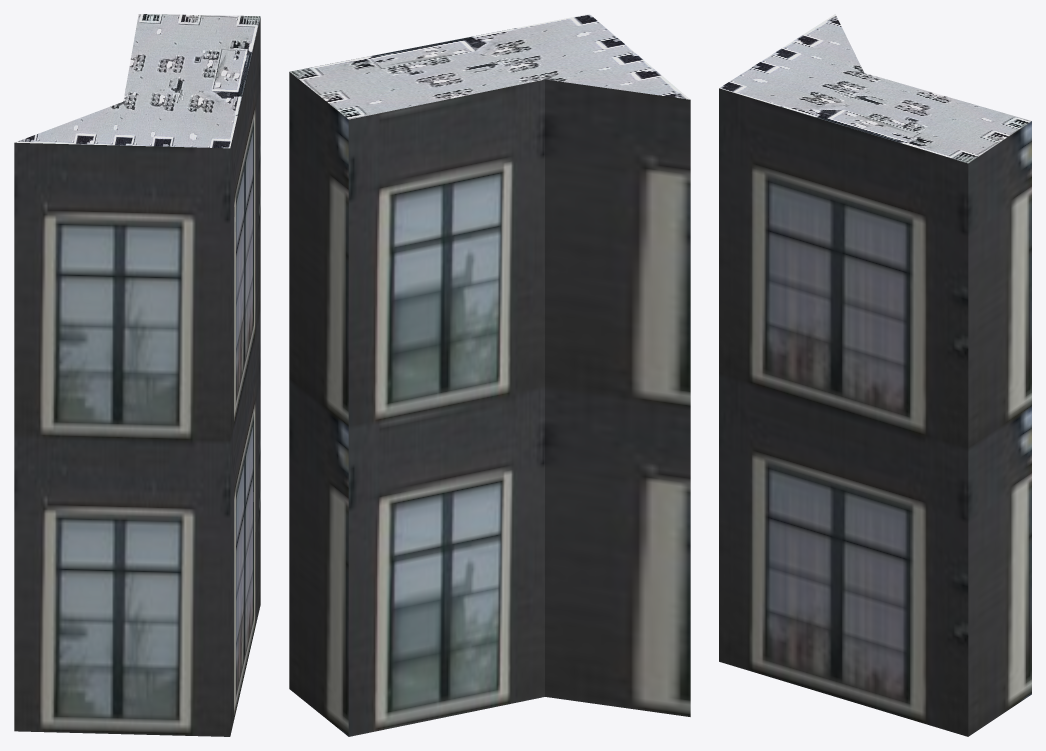
File: ResTex__4299.fbx
3 views of the same model, side by side, from view 1: azimuth 30°, elevation 25°; view 2: azimuth 150°, elevation 25°; view 3: azimuth 270°, elevation 25° (orthographic). The views are drawn at different scales.
Parts seen in each view (by area): view 1: CityEngineMaterial_22_m, CityEngineMaterial_2_m; view 2: CityEngineMaterial_22_m, CityEngineMaterial_2_m; view 3: CityEngineMaterial_22_m, CityEngineMaterial_2_m.
Part boxes in pixels (<box>): CityEngineMaterial_22_m: <box>14,17,260,736</box>; CityEngineMaterial_2_m: <box>15,14,260,148</box>; CityEngineMaterial_22_m: <box>289,72,690,736</box>; CityEngineMaterial_2_m: <box>290,14,689,119</box>; CityEngineMaterial_22_m: <box>719,88,1031,736</box>; CityEngineMaterial_2_m: <box>719,14,1031,163</box>.
Size of the model in its own units: 3.35 by 6 by 2.97.
2 materials, 2 textured.
